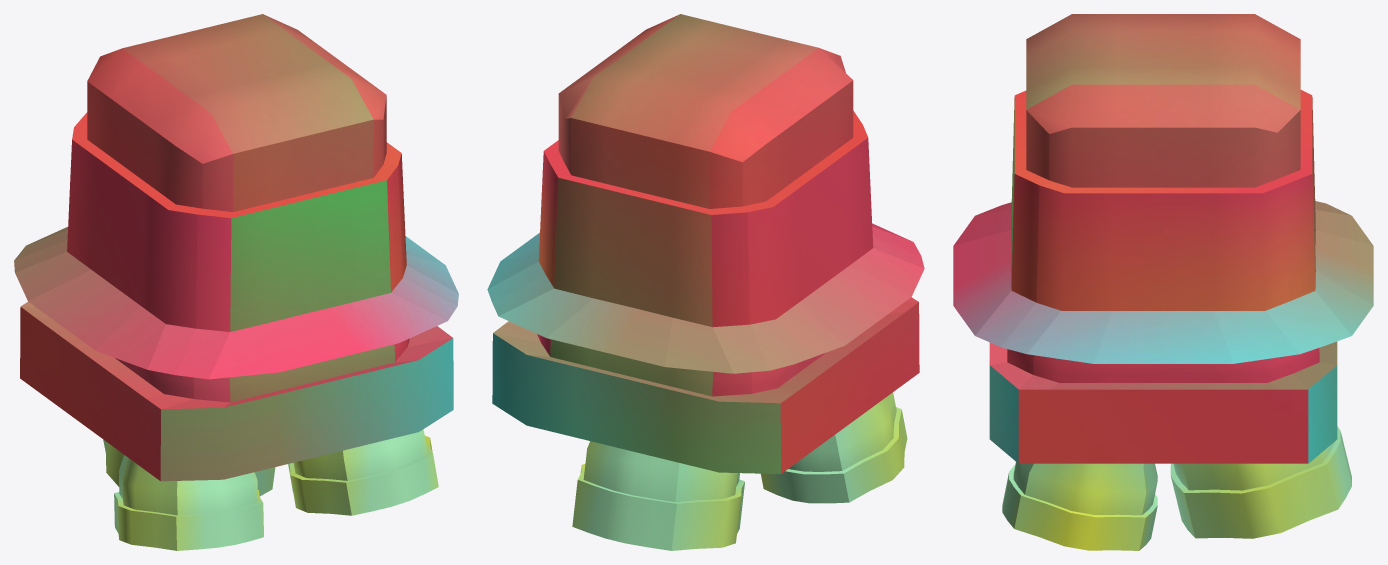
File: ship.glb
3 renders of one model, left to right at view 1: azimuth 30°, elevation 25°; view 2: azimuth 150°, elevation 25°; view 3: azimuth 270°, elevation 25°, orthographic. The views are drawn at different scales.
Visible parts, largest first — view 1: amogus_spaceship; view 2: amogus_spaceship; view 3: amogus_spaceship.
Boxes of the visible parts, x1=… form: amogus_spaceship: x1=14, y1=14, x2=458, y2=550; amogus_spaceship: x1=487, y1=14, x2=924, y2=550; amogus_spaceship: x1=953, y1=14, x2=1373, y2=550.
Size of the model in its own units: 6.43 by 7.94 by 6.48.
Materials: 2 (2 with a texture image).
